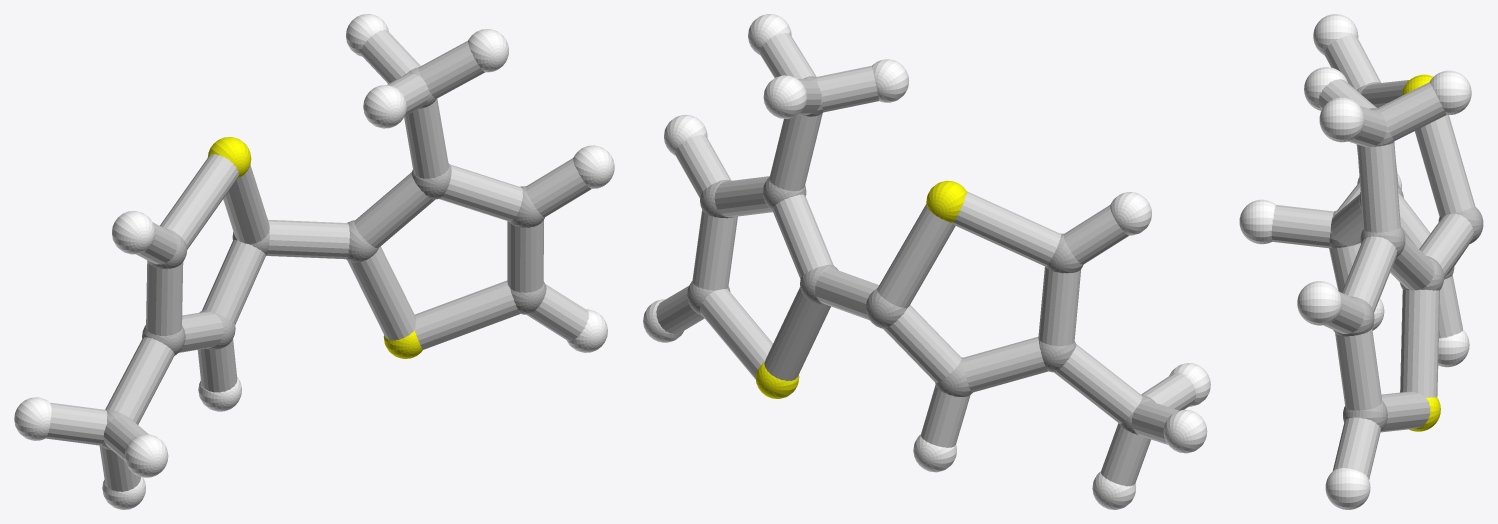
The model's file is Methylthiophene_Phi_50_Theta_10_Methylthiophene.glb.
3 views of the same model, side by side, from view 1: azimuth 30°, elevation 25°; view 2: azimuth 150°, elevation 25°; view 3: azimuth 270°, elevation 25° (orthographic). The views are drawn at different scales.
Parts seen in each view (by area): view 1: grp7965, grp3621, grp1, grp7241; view 2: grp7965, grp3621, grp1, grp7241; view 3: grp7965, grp3621, grp1, grp7241.
Boxes of the visible parts, x1=… form: grp7965: x1=46, y1=30, x2=591, y2=491; grp3621: x1=14, y1=14, x2=614, y2=509; grp1: x1=101, y1=67, x2=546, y2=450; grp7241: x1=207, y1=137, x2=422, y2=358; grp7965: x1=656, y1=32, x2=1196, y2=486; grp3621: x1=643, y1=14, x2=1210, y2=509; grp1: x1=687, y1=76, x2=1155, y2=434; grp7241: x1=755, y1=180, x2=966, y2=398; grp7965: x1=1271, y1=35, x2=1475, y2=479; grp3621: x1=1239, y1=14, x2=1471, y2=509; grp1: x1=1329, y1=82, x2=1483, y2=430; grp7241: x1=1402, y1=74, x2=1440, y2=431.
Size of the model in its own units: 9.07 by 6.02 by 3.25.
